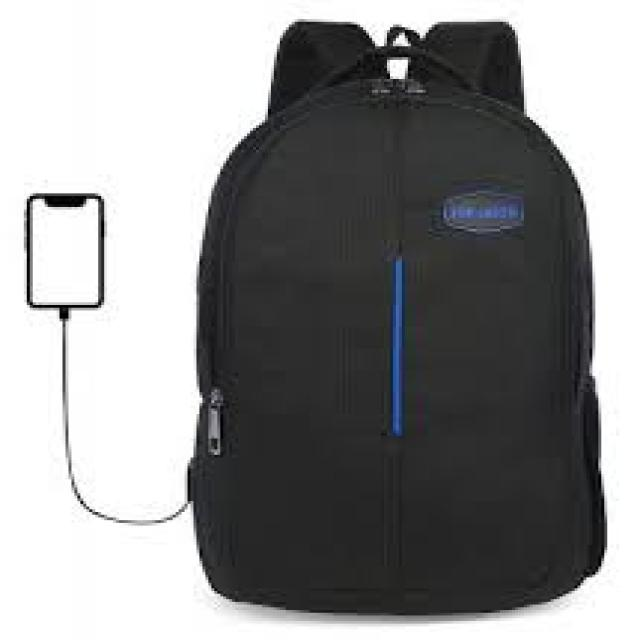backpack: (167, 18, 618, 625)
